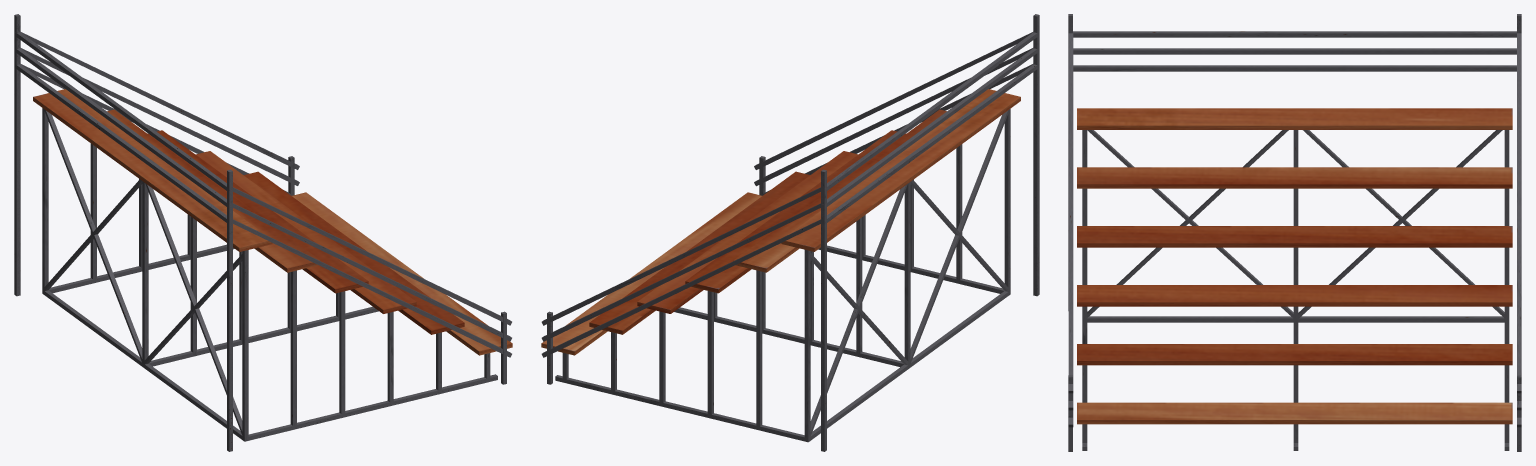
The picture shows the model from 3 angles, left to right: view 1: azimuth 30°, elevation 25°; view 2: azimuth 150°, elevation 25°; view 3: azimuth 270°, elevation 25°; orthographic projection. The views are drawn at different scales.
Parts seen in each view (by area): view 1: bleacher20; view 2: bleacher20; view 3: bleacher20.
Boxes of the visible parts, <box> form: bleacher20: <box>14,14,512,451</box>; bleacher20: <box>541,14,1039,451</box>; bleacher20: <box>1068,14,1521,451</box>.
Bounding box in the file's own units: 6.71 × 6.24 × 8.68.
Materials: 1 (1 with a texture image).
